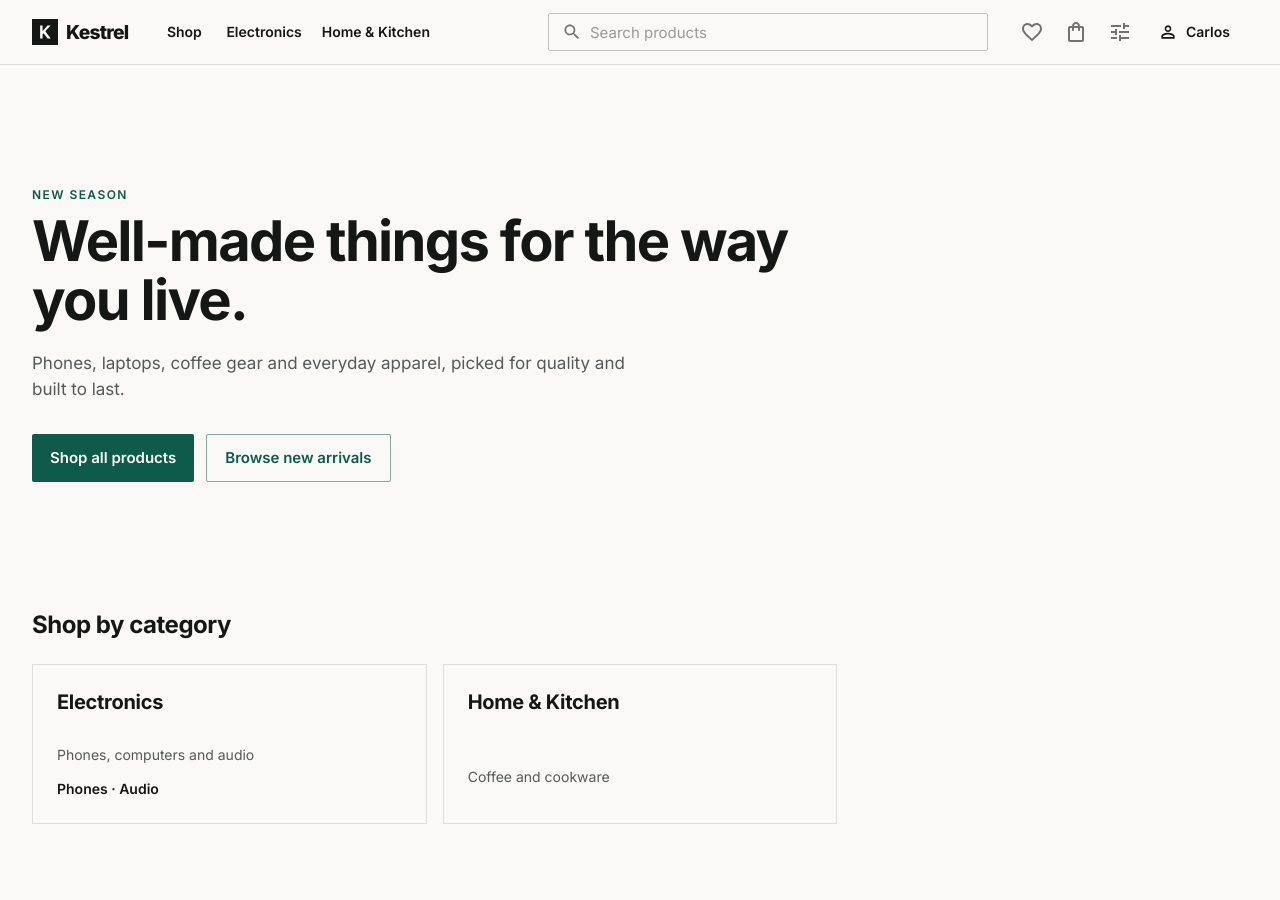
authentication › tells the user when the server could not end the session (offline sign-out)
Click the button "Carlos" at (1196, 32), box [1144, 12, 1248, 52]
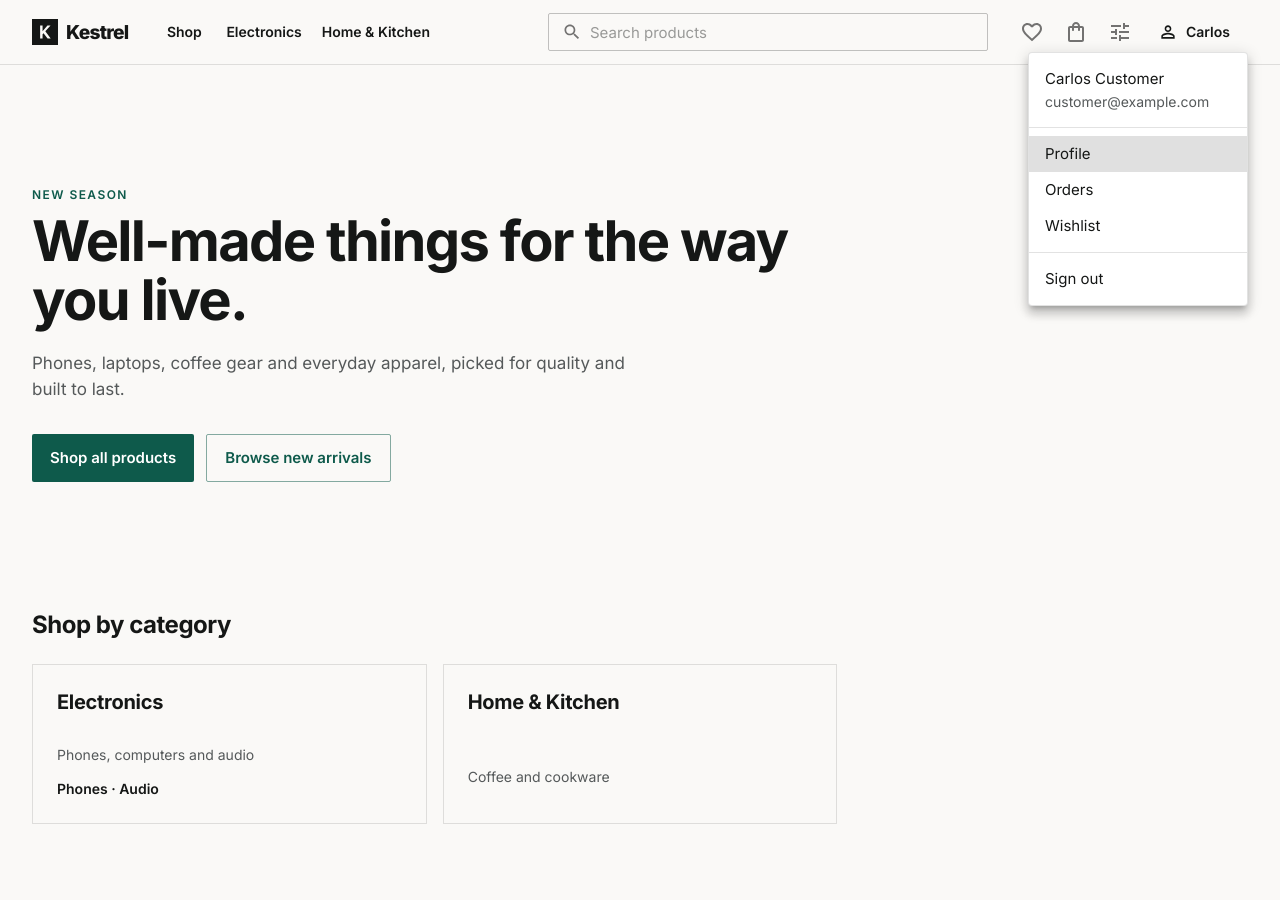
Click the menu item "Sign out" at (1074, 278), box [1045, 269, 1103, 288]
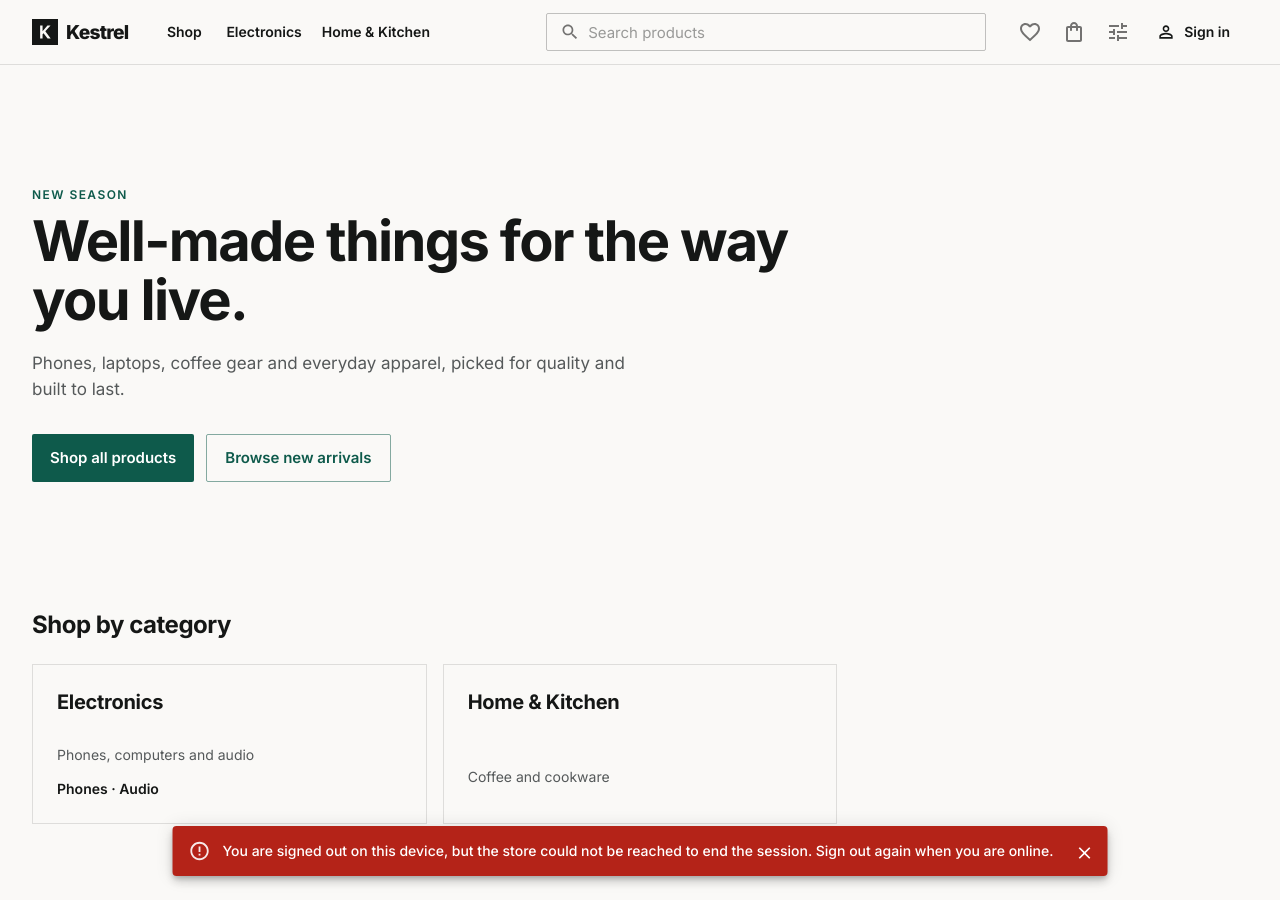
expect the text "You are signed out on this device" is shown: met, box [222, 842, 1054, 859]
expect the link "Sign in" is shown: met, box [1156, 22, 1230, 42]
